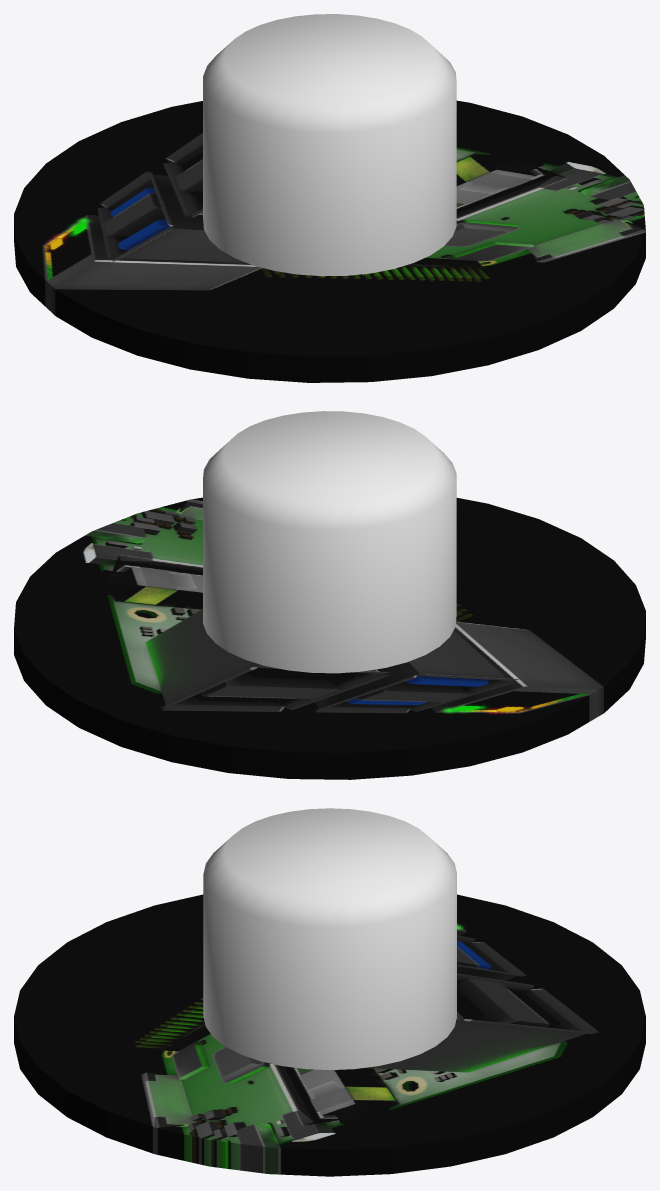
Rendered from wheel.gltf.
3 views of the same model, one above another, from view 1: azimuth 30°, elevation 25°; view 2: azimuth 150°, elevation 25°; view 3: azimuth 270°, elevation 25° (orthographic).
Parts seen in each view (by area): view 1: 円.001, 円; view 2: 円.001, 円; view 3: 円.001, 円.
Part boxes in pixels (x1,y1,x2,y2): 円.001: [14, 100, 645, 382]; 円: [203, 14, 456, 276]; 円.001: [14, 497, 645, 779]; 円: [203, 411, 456, 673]; 円.001: [14, 894, 645, 1176]; 円: [203, 808, 456, 1070].
Bounding box in the file's own units: 2.62 × 0.8708 × 2.62.
2 materials, 1 textured.
